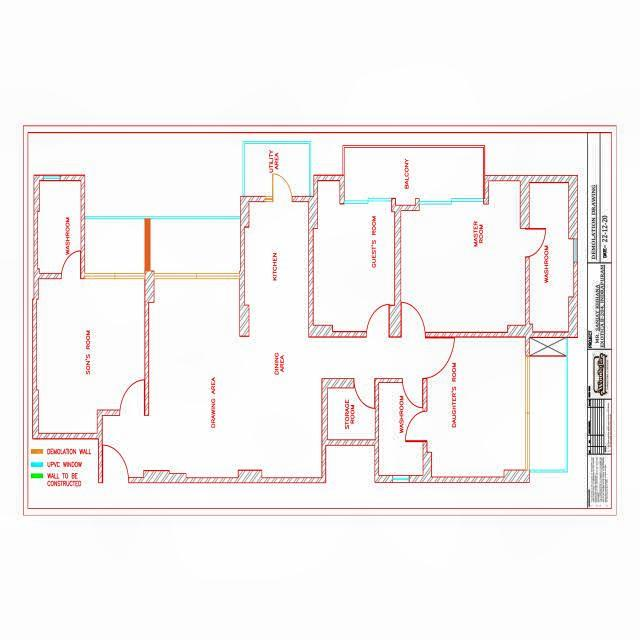room: (150, 277, 321, 474), (401, 180, 524, 330), (39, 278, 145, 433), (428, 337, 526, 478), (313, 181, 395, 331), (243, 202, 309, 338), (527, 183, 575, 333), (345, 148, 483, 198), (152, 218, 241, 273), (530, 337, 566, 468), (379, 384, 423, 473), (40, 182, 80, 272), (86, 218, 145, 270), (244, 146, 308, 192), (328, 387, 375, 441)
